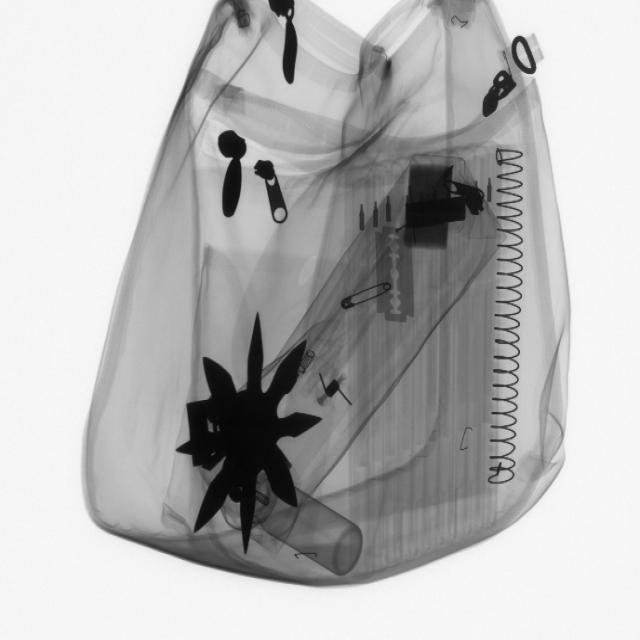BLADE: (366, 213, 424, 332)
SHURIKEN: (182, 315, 321, 552)
